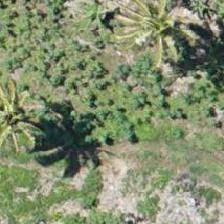coconut_tree: (113, 0, 203, 67), (0, 74, 49, 164)
